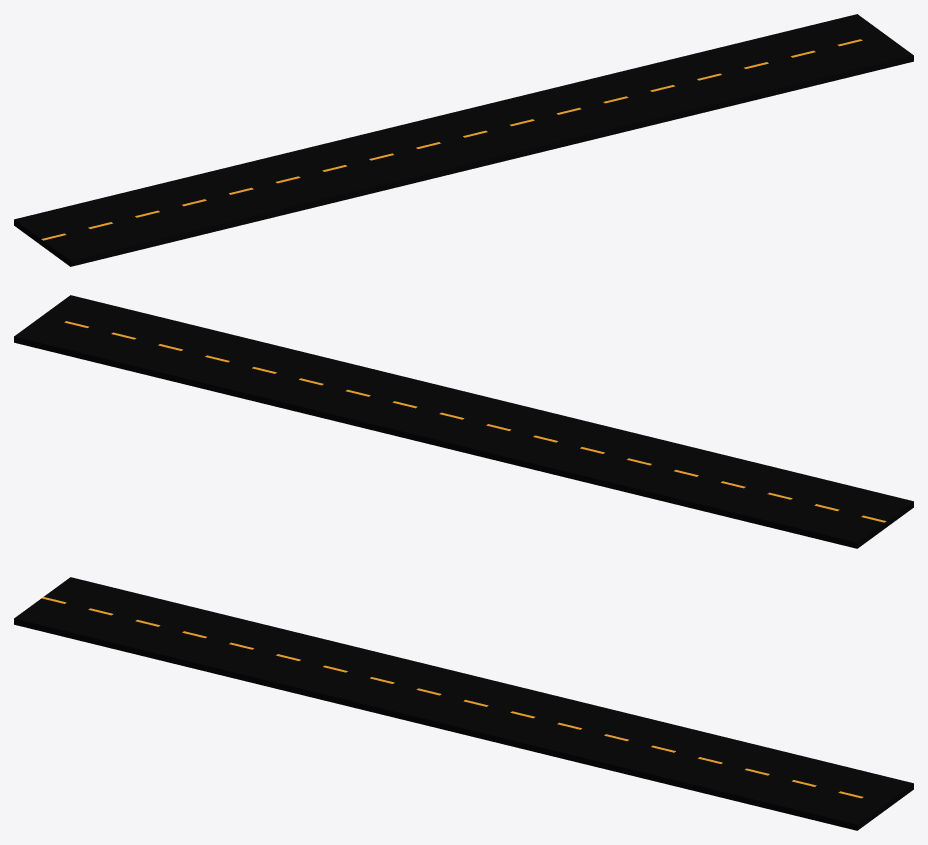
Rendered from Road.fbx.
The picture shows the model from 3 angles, top to bottom: view 1: azimuth 30°, elevation 25°; view 2: azimuth 150°, elevation 25°; view 3: azimuth 330°, elevation 25°; orthographic projection.
Visible parts, largest first — view 1: Road, Lane; view 2: Road, Lane; view 3: Road, Lane.
Boxes of the visible parts, left/top/right/bottom form: Road: left=14, top=14, right=913, bottom=266; Lane: left=41, top=39, right=862, bottom=240; Road: left=14, top=295, right=913, bottom=548; Lane: left=64, top=321, right=886, bottom=522; Road: left=14, top=577, right=913, bottom=830; Lane: left=42, top=597, right=863, bottom=798.
Bounding box in the file's own units: 3047 × 21.74 × 357.
